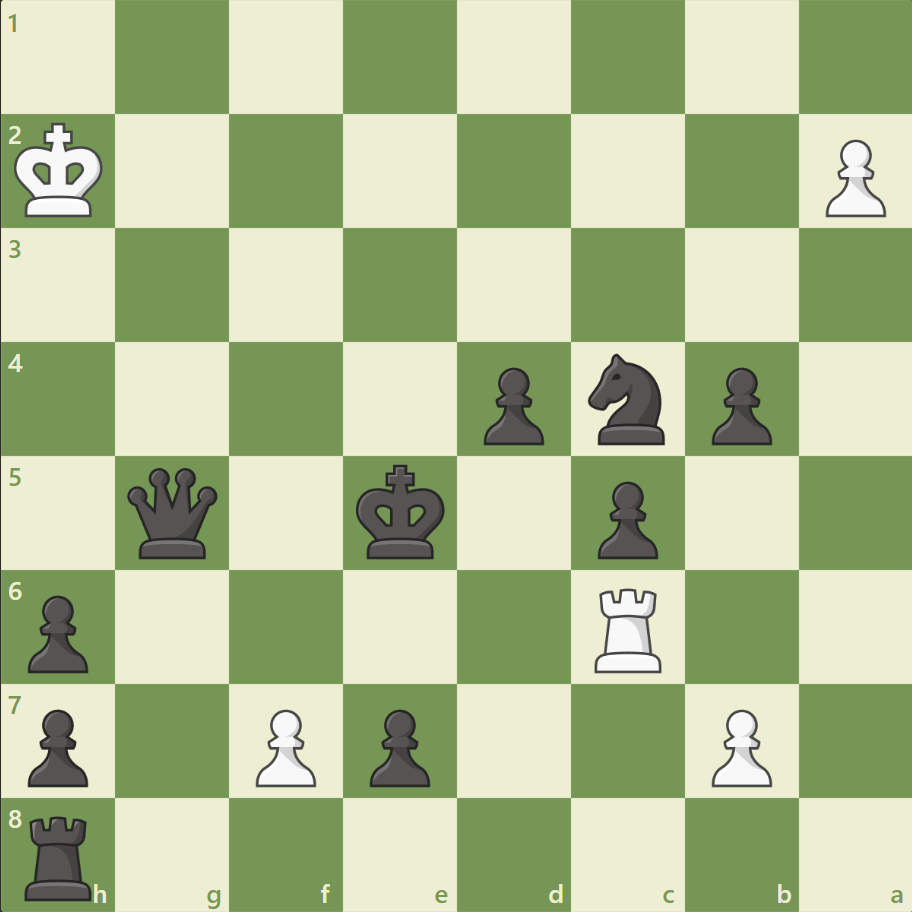K: (11, 117, 111, 225)
P: (701, 700, 776, 791), (247, 700, 322, 791), (815, 132, 889, 223)
R: (587, 579, 670, 676)
k: (351, 458, 451, 566)
n: (579, 348, 676, 450)
p: (20, 700, 95, 791), (20, 586, 95, 677), (701, 359, 776, 450), (474, 359, 549, 450), (361, 700, 435, 791), (588, 473, 662, 564)
q: (124, 463, 223, 562)
r: (19, 806, 102, 904)
